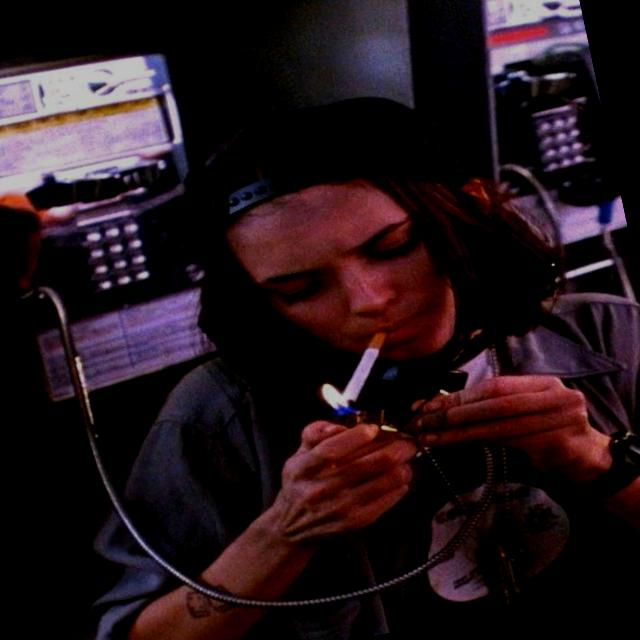cigarette: (322, 325, 404, 418)
